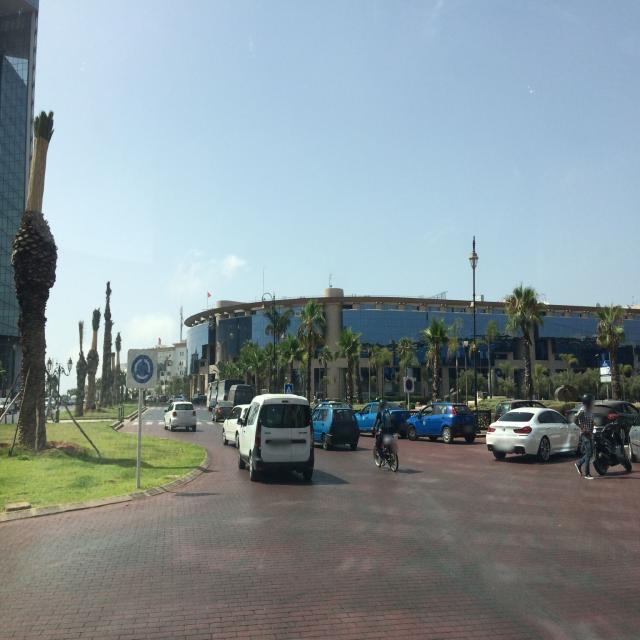forb_stopping: (405, 378, 413, 391)
